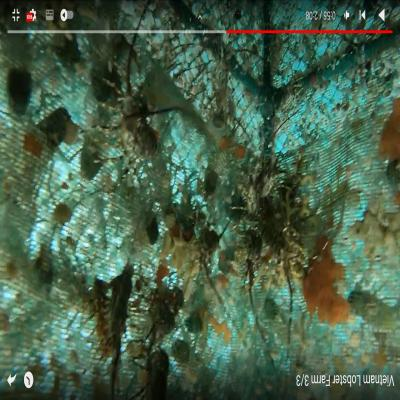lobster: (120, 94, 160, 166), (105, 274, 133, 352), (147, 285, 180, 335), (194, 221, 222, 261)
